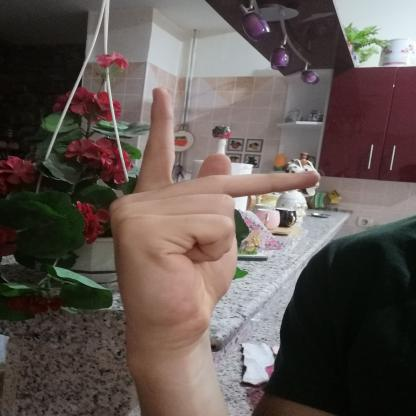DHAA: (93, 76, 334, 366)
